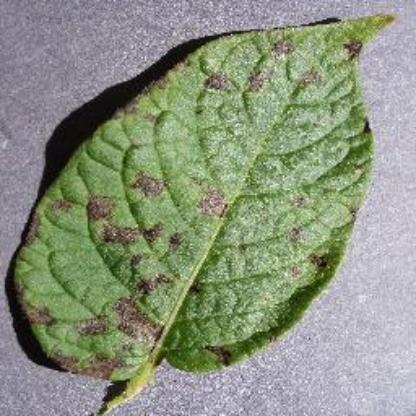Early-Blight: (11, 10, 393, 396)
